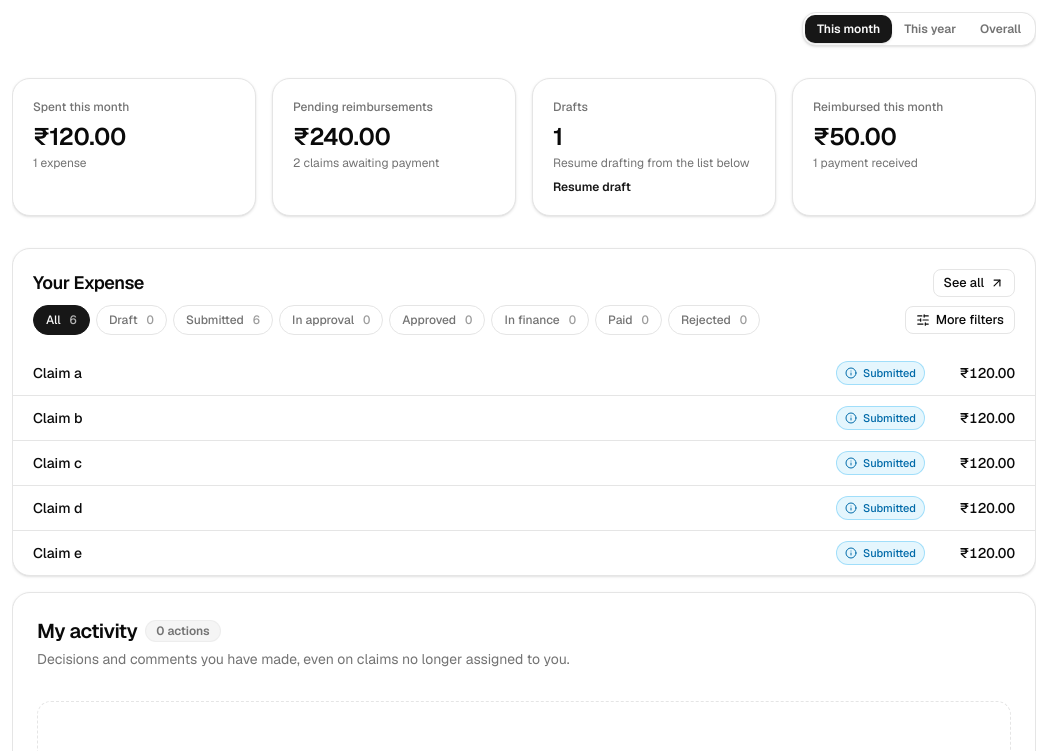
ExpenseDashboard drawer integration › shows the preview truncated to five and the filtered empty state otherwise
Check: the number of buttons "Claim a Submitted ₹120.00" is 5, box x1=13 y1=351 x2=1035 y2=395; x1=13 y1=396 x2=1035 y2=440; x1=13 y1=441 x2=1035 y2=485; x1=13 y1=486 x2=1035 y2=530; x1=13 y1=531 x2=1035 y2=575
Step 1. Click the button "Paid 0" → x=628, y=320, box x1=595 y1=305 x2=662 y2=335
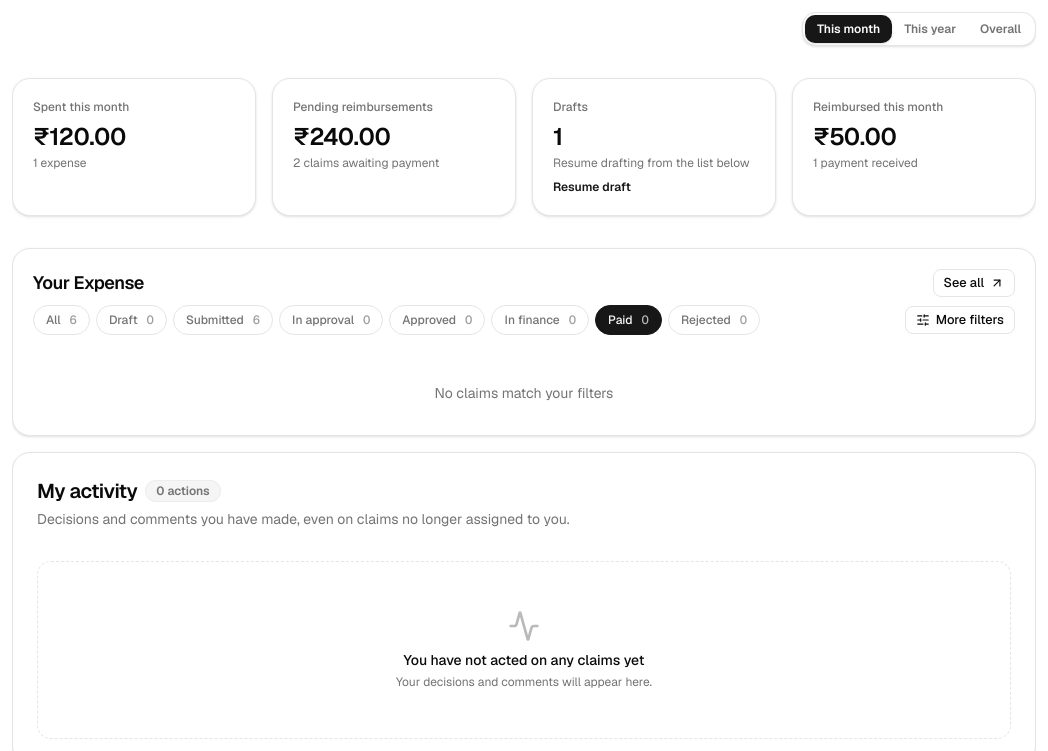
Check: the list item "No claims match your filters" is shown, box x1=435 y1=384 x2=613 y2=402
